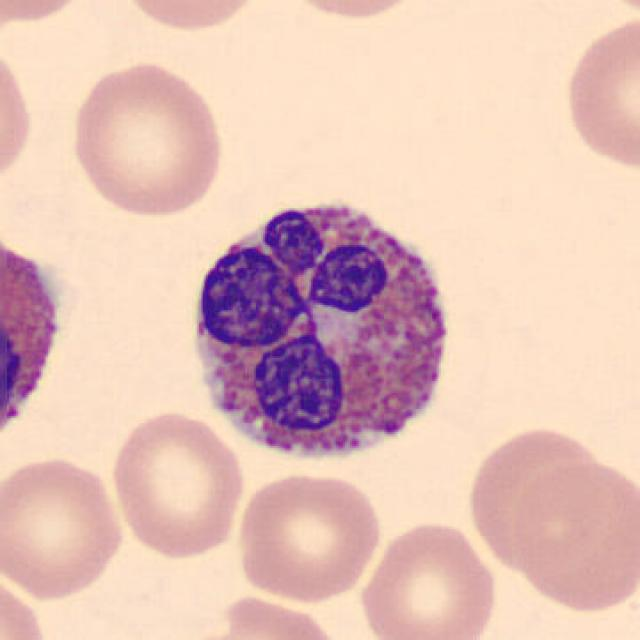Eosinophil: (178, 178, 466, 480), (0, 199, 78, 478)
RBC: (66, 58, 228, 220), (464, 421, 608, 573), (105, 407, 247, 561), (507, 455, 638, 617), (233, 469, 384, 605), (0, 453, 128, 601), (355, 516, 501, 640), (558, 11, 640, 176), (204, 590, 346, 640), (0, 39, 36, 197), (112, 0, 266, 35), (270, 0, 436, 23), (0, 569, 50, 640), (0, 0, 98, 28), (581, 0, 640, 21)
